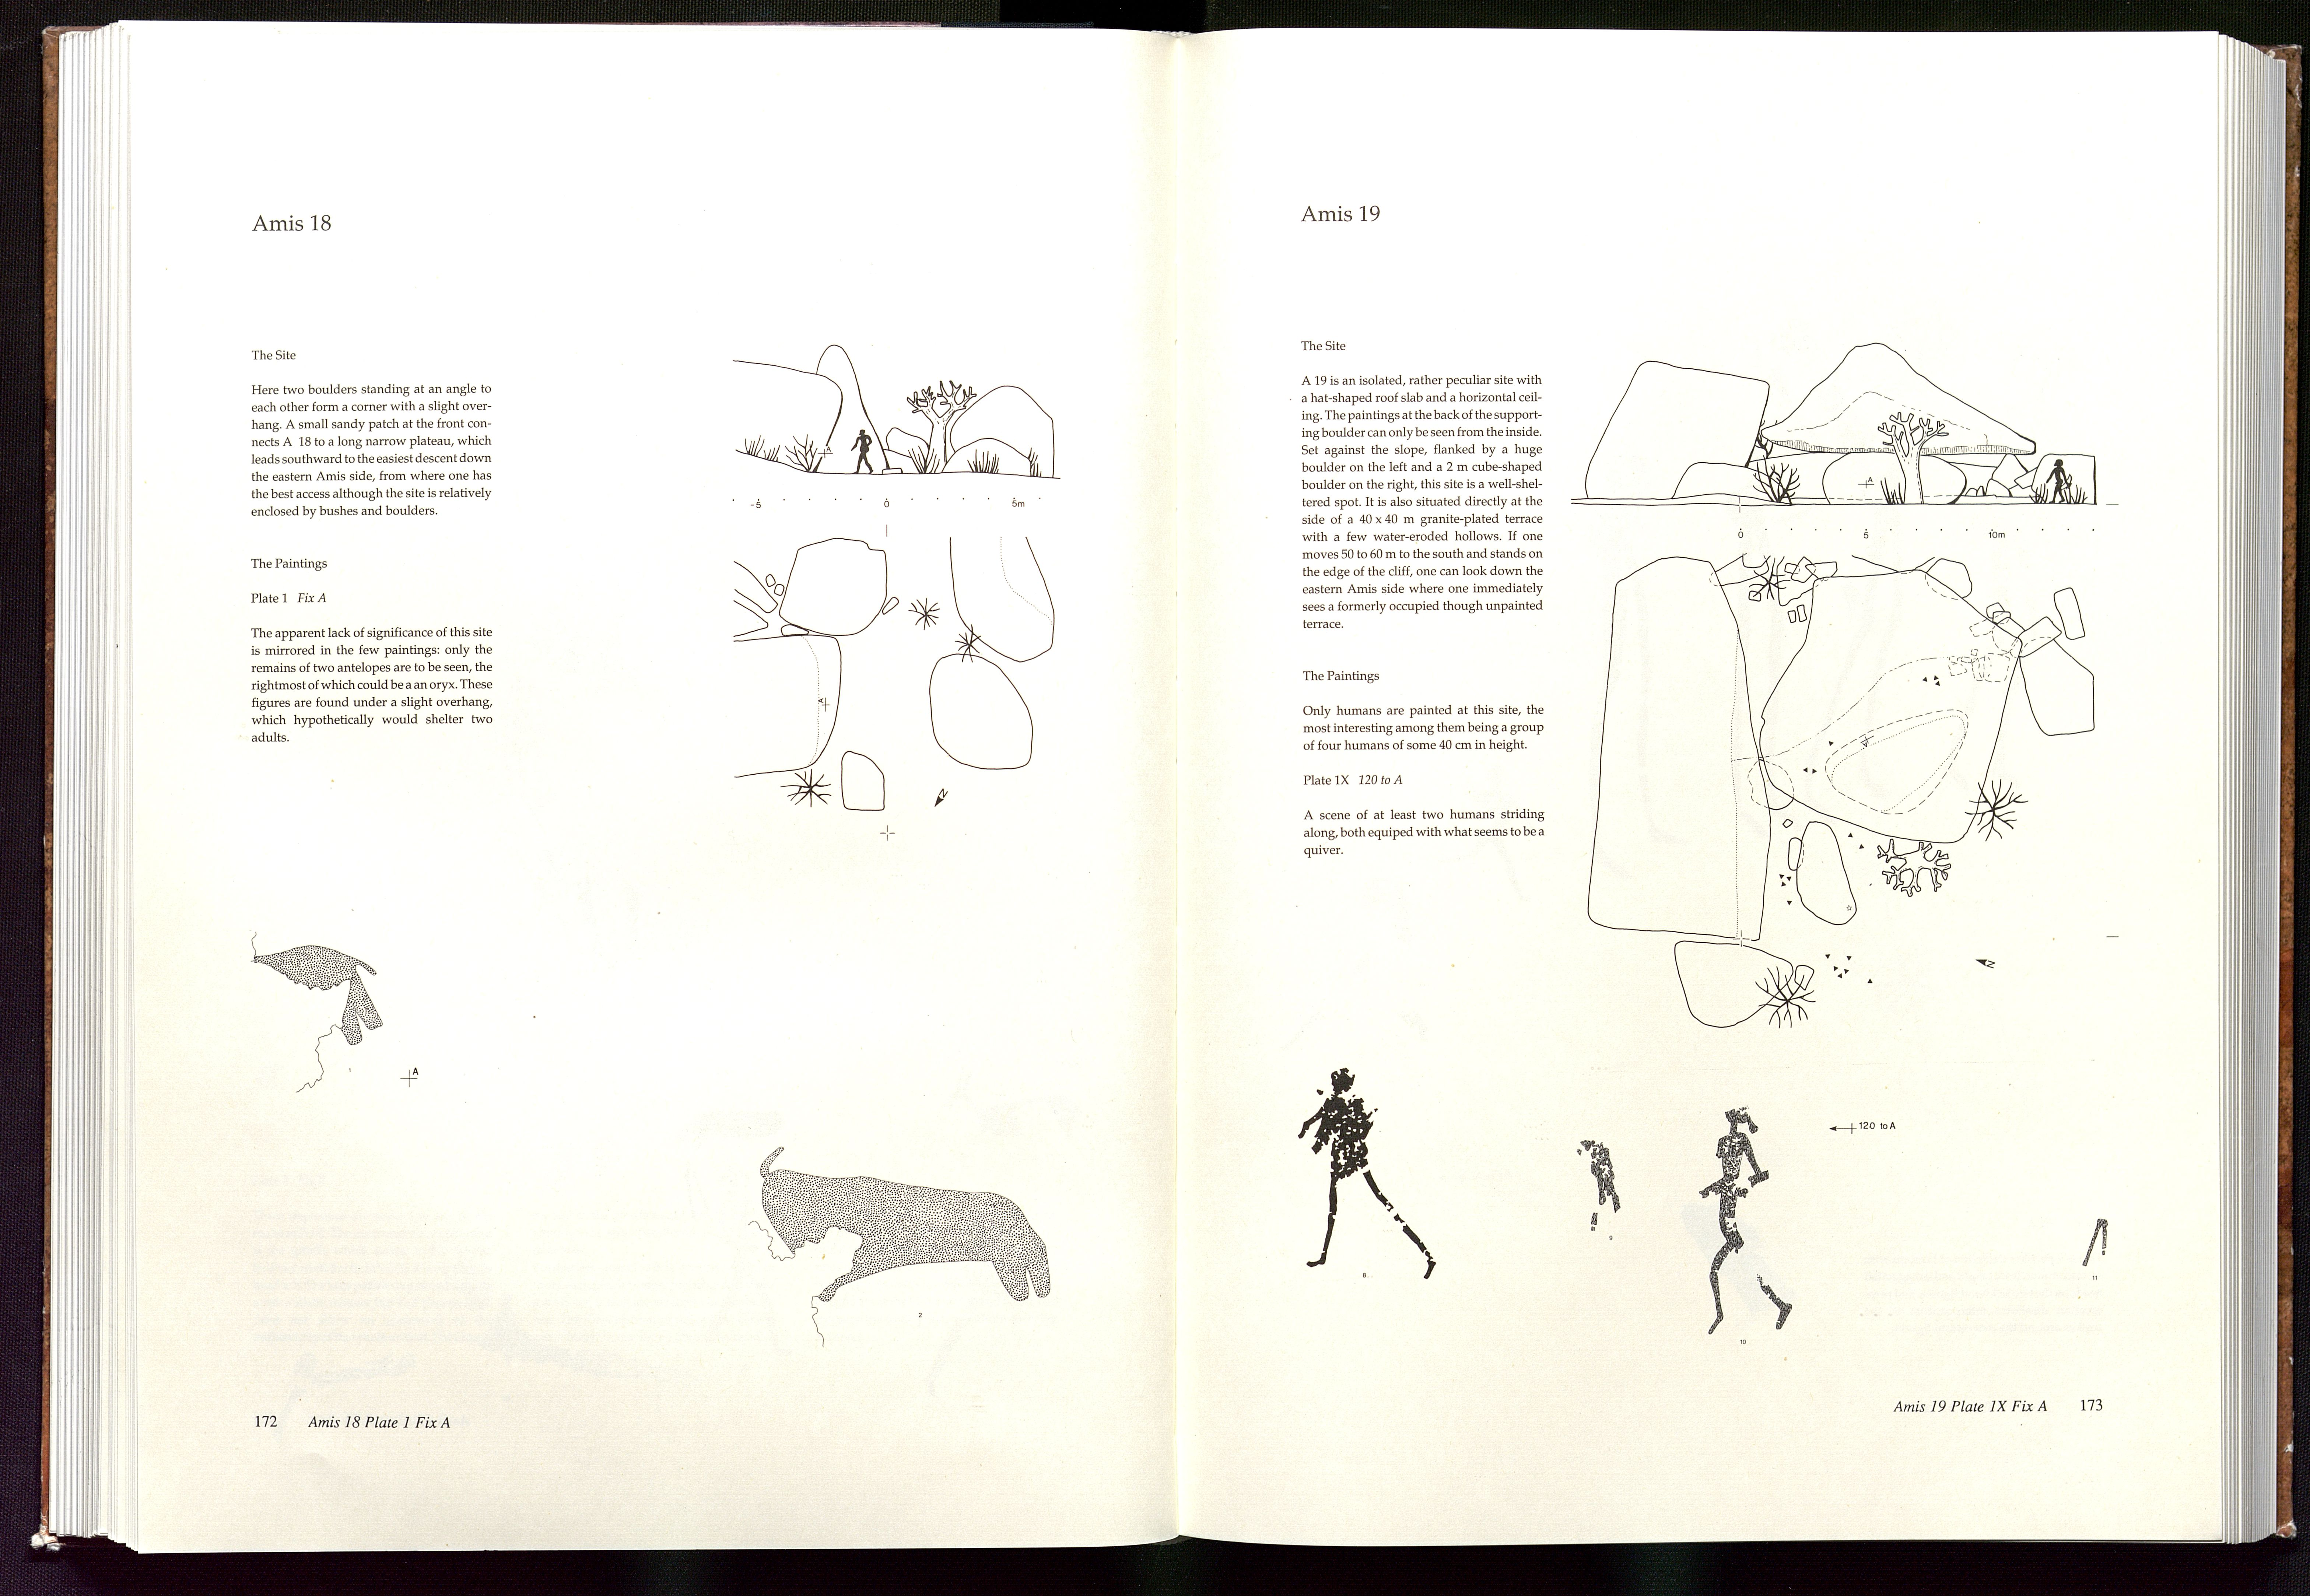animal: (739, 1140, 1065, 1349)
human: (1286, 1057, 1441, 1295), (1689, 1101, 1799, 1342), (1559, 1136, 1645, 1251)
